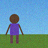person: (6, 14, 23, 43)
